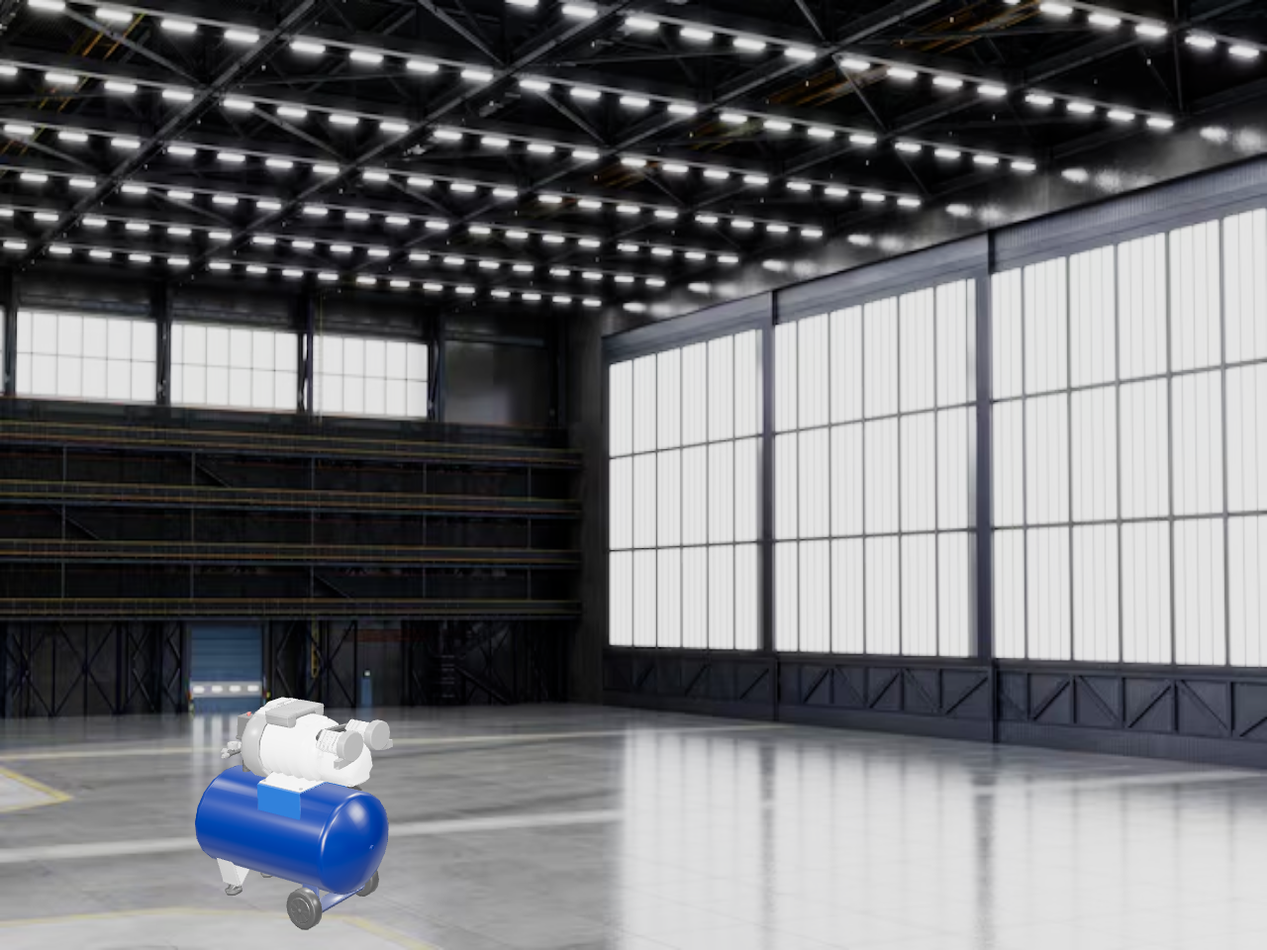Compressor: (195, 697, 393, 930)
